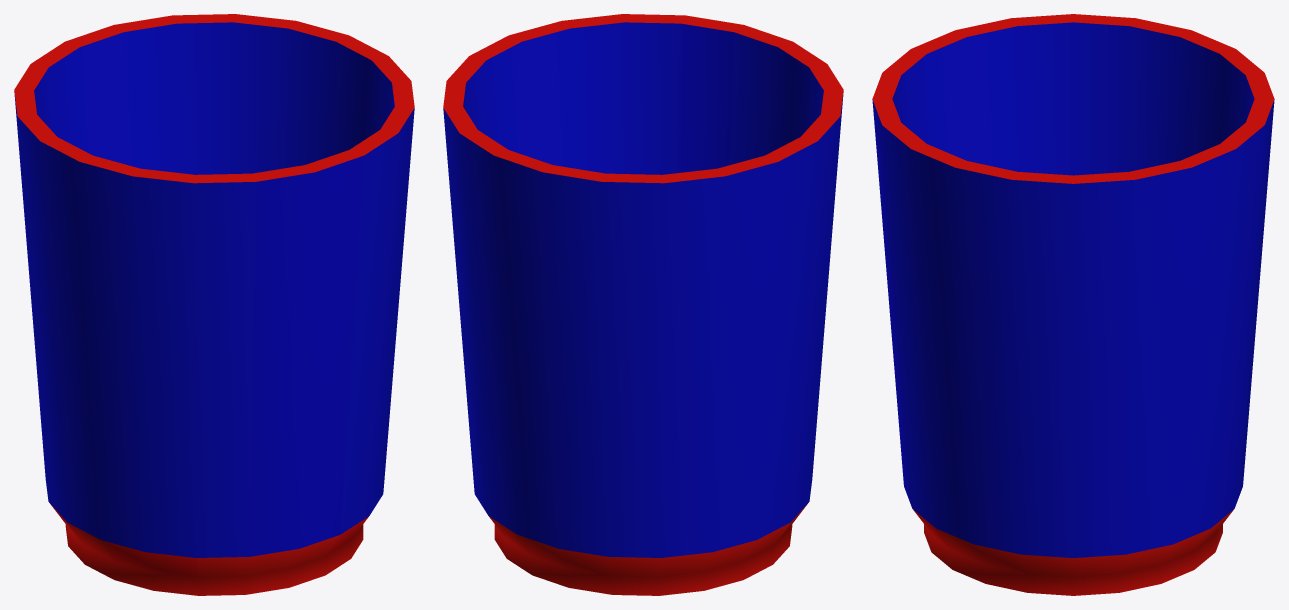
Rendered from SM_corbeille.fbx.
The picture shows the model from 3 angles, left to right: view 1: azimuth 30°, elevation 25°; view 2: azimuth 150°, elevation 25°; view 3: azimuth 270°, elevation 25°; orthographic projection.
Visible parts, largest first — view 1: pCylinder1; view 2: pCylinder1; view 3: pCylinder1.
Part boxes in pixels (x1=…): pCylinder1: x1=14, y1=14, x2=414, y2=595; pCylinder1: x1=443, y1=14, x2=843, y2=595; pCylinder1: x1=872, y1=14, x2=1274, y2=595.
Size of the model in its own units: 82.42 by 98.11 by 82.42.
